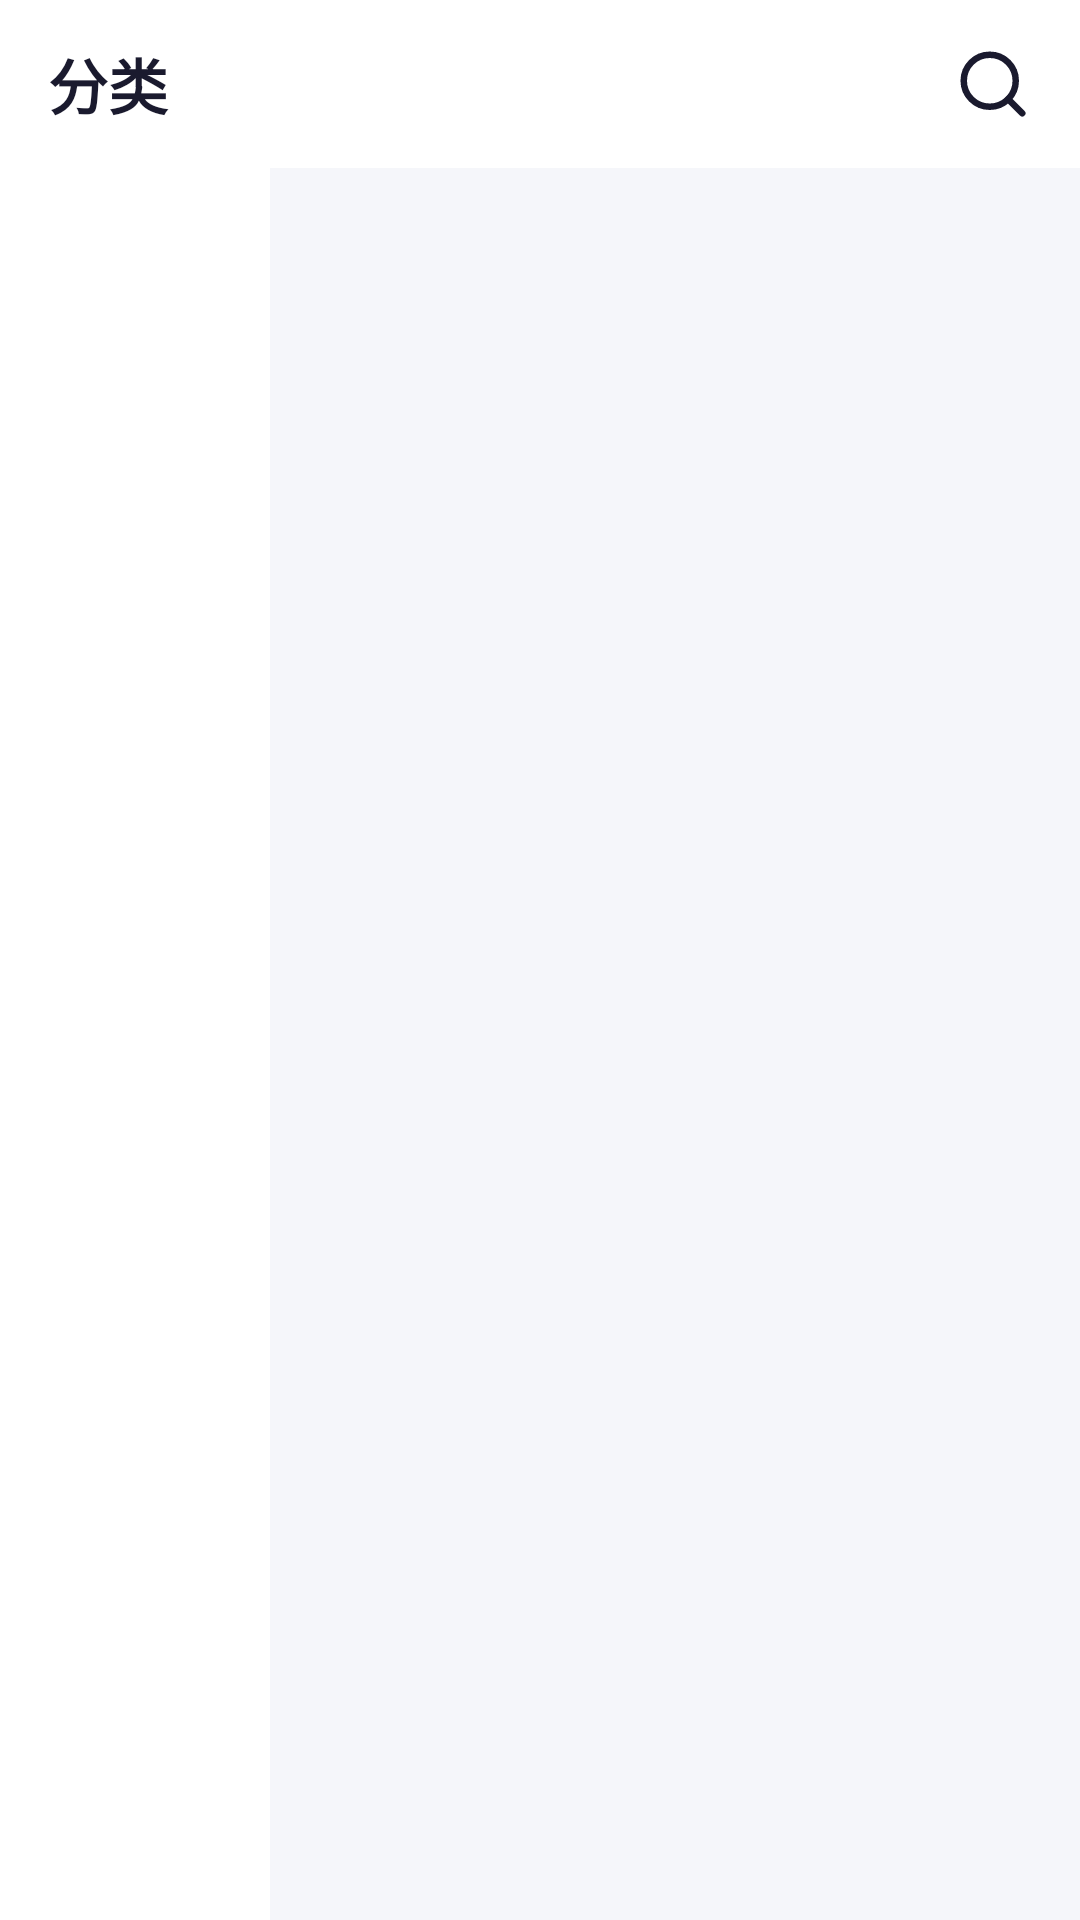

Screen size 1080×1920. Icon name, then its center in pixels as [x,y]:
search: [993,84]
